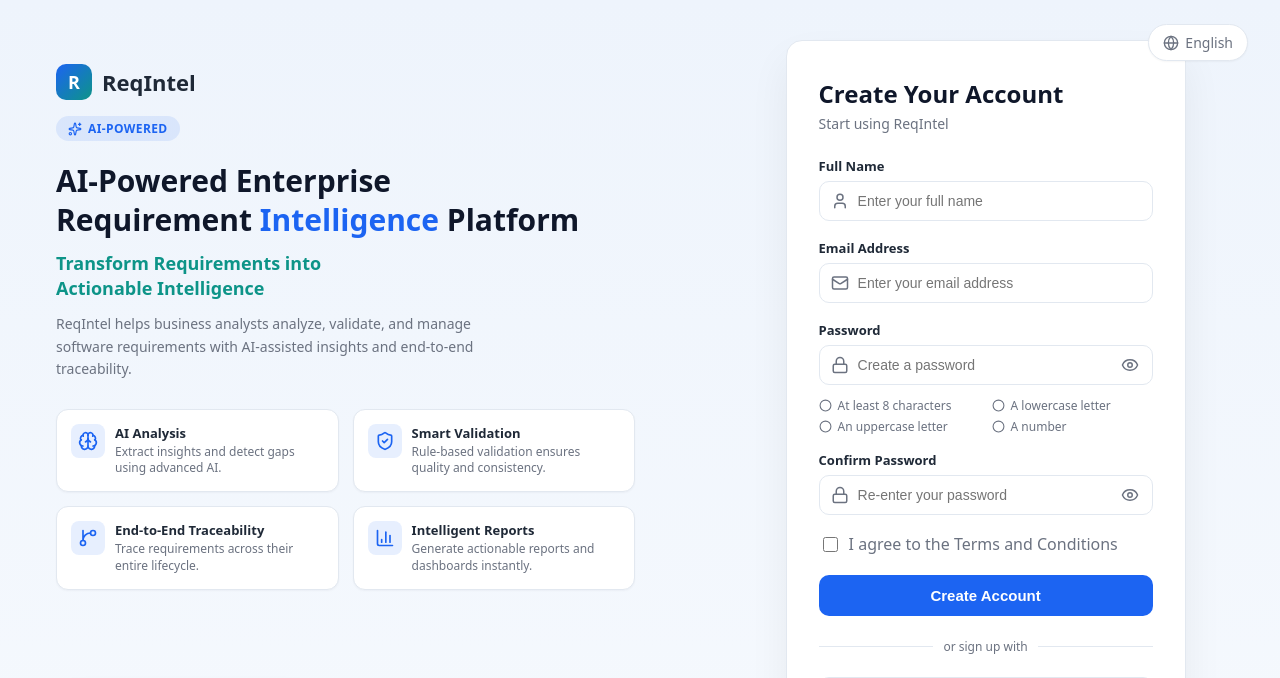
Test case: RegisterPage › blocks mismatched passwords, invalid email and unchecked terms
In the field labelled "Full Name": [986, 201] box [819,181,1153,221], type "Ada Lovelace"
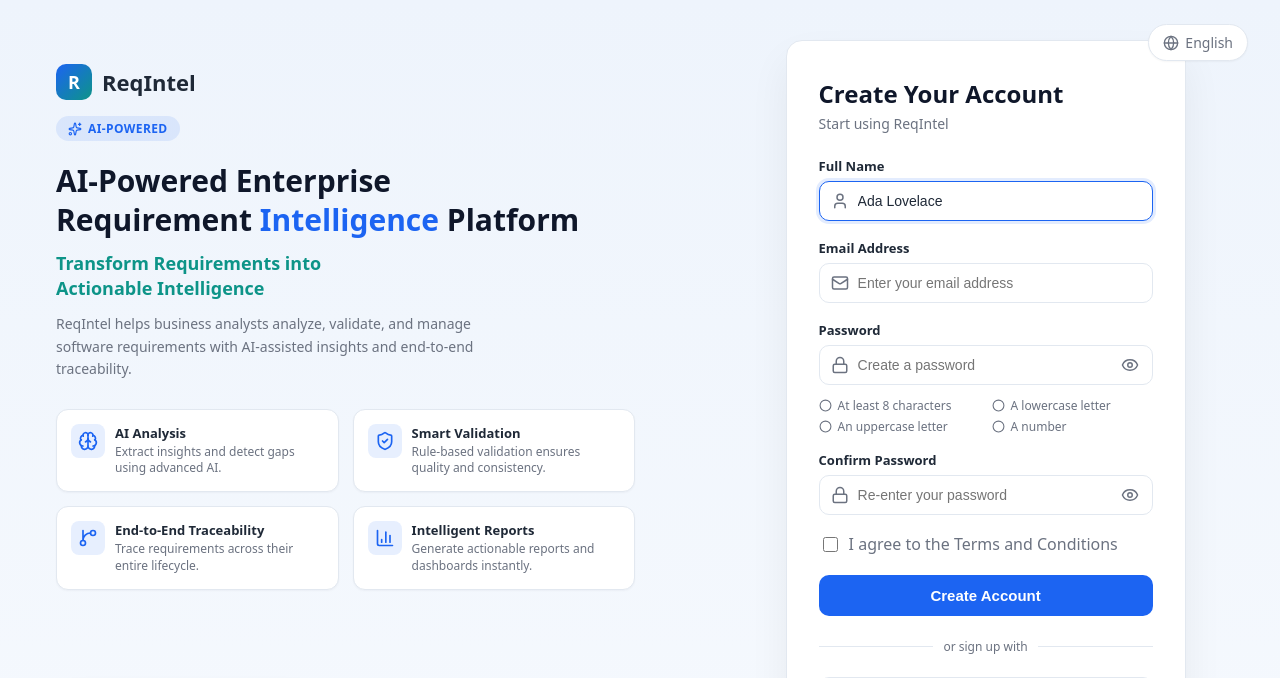
In the field labelled "Email Address": [986, 283] box [819,263,1153,303], type "ada@example.com"
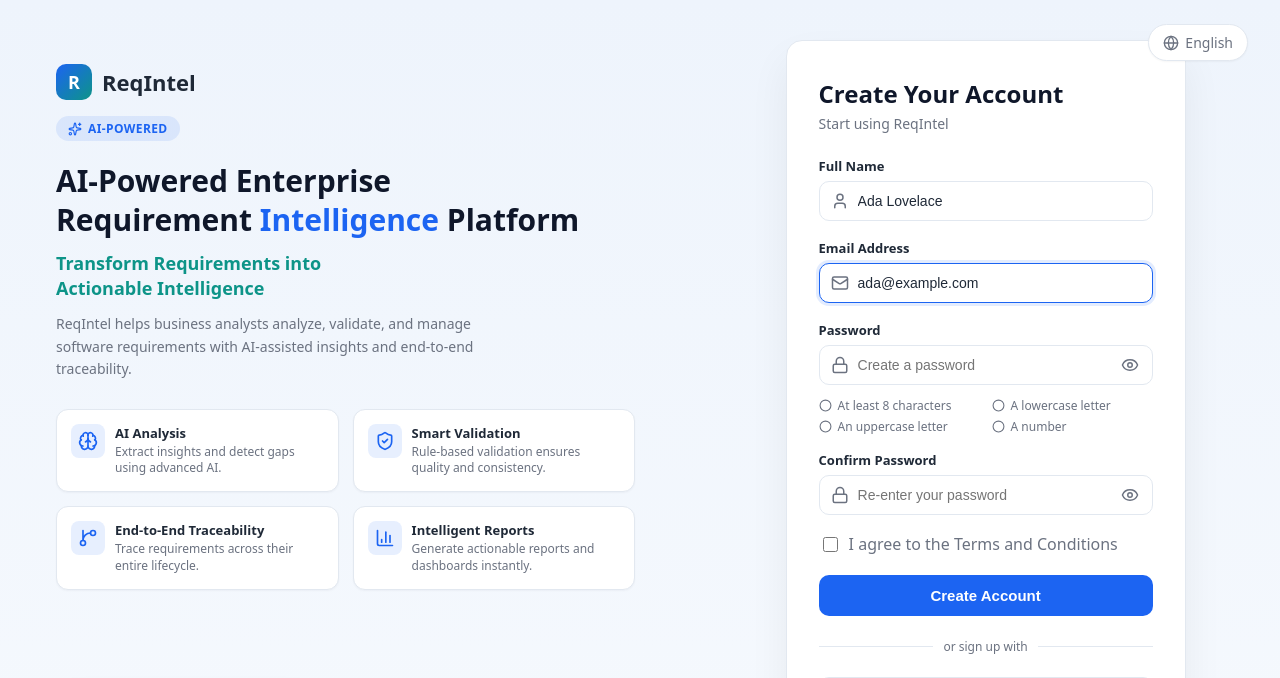
In the password field labelled "Password": [986, 365] box [819,345,1153,385], type "Longenough1"
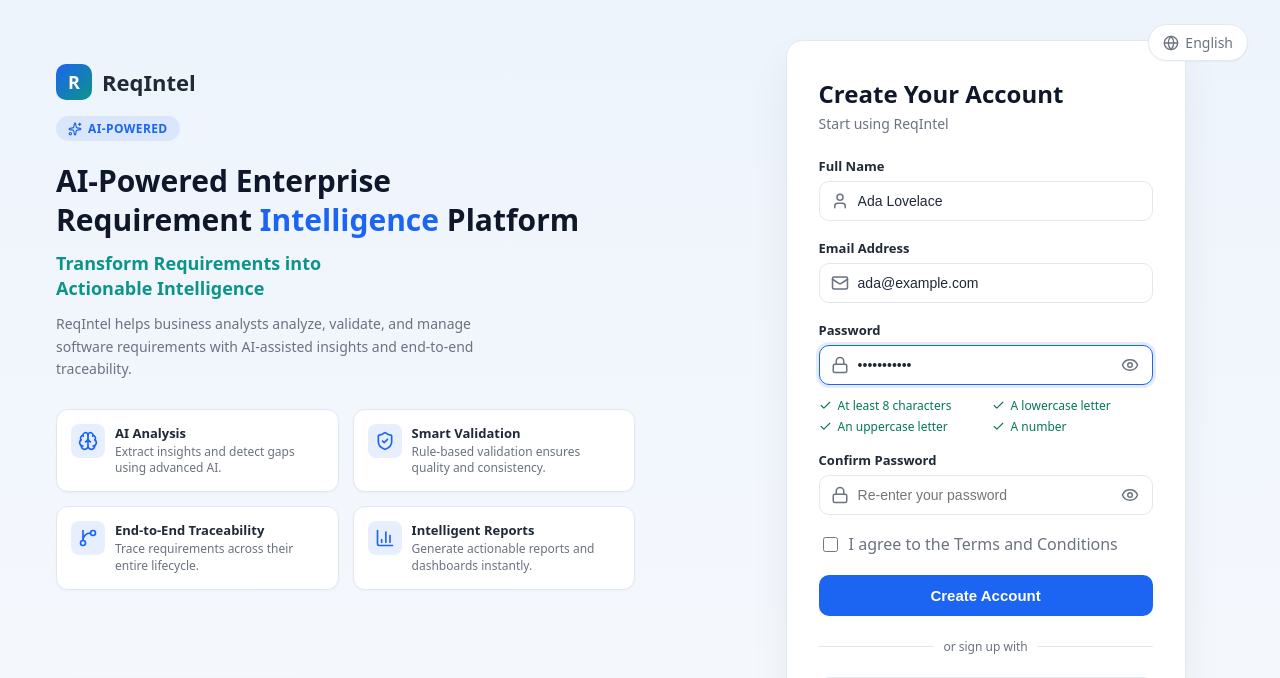
In the password field labelled "Confirm Password": [986, 495] box [819,475,1153,515], type "Different1x"
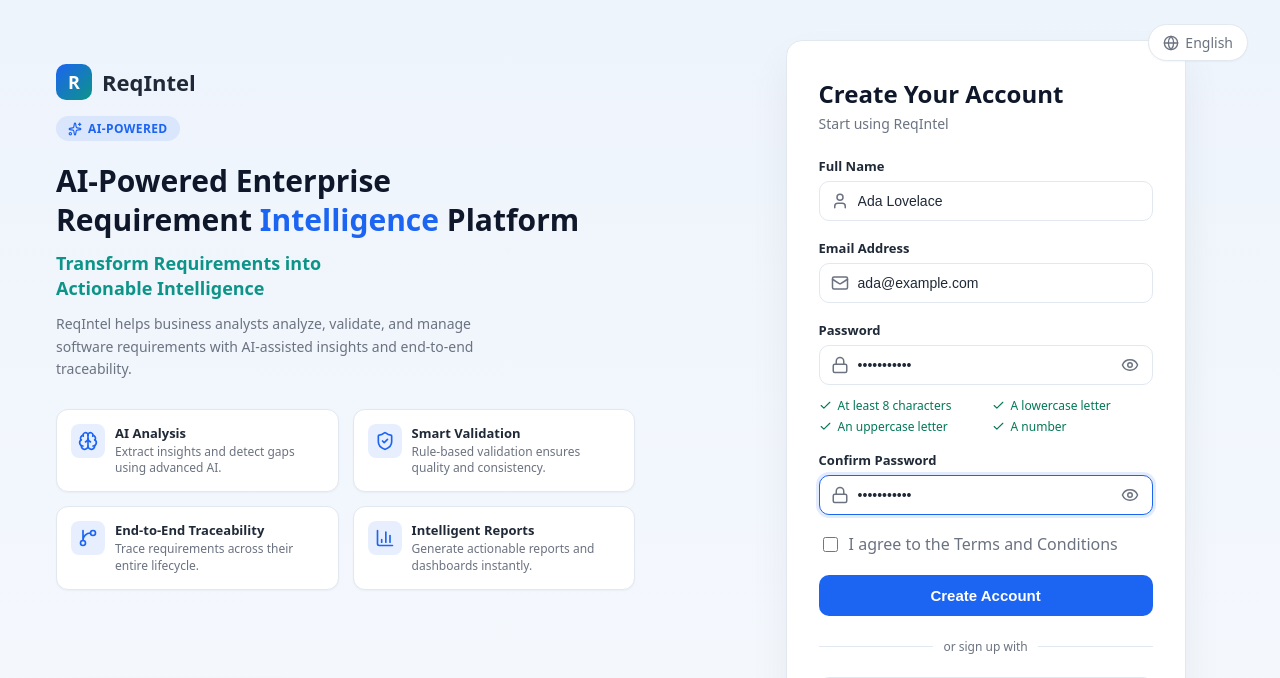
Click the checkbox labelled "I agree to the Terms and Conditions": [830, 544] box [823,536,838,552]
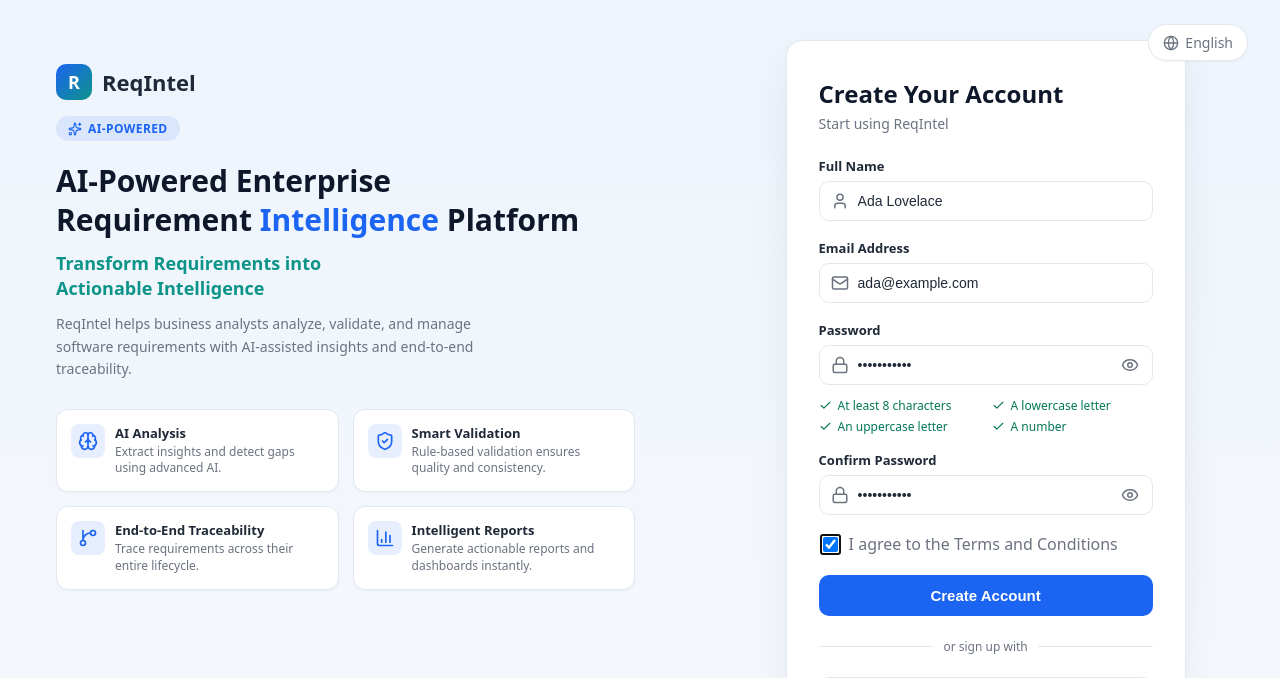
Click the button "Create Account": [986, 596] box [819,575,1153,616]
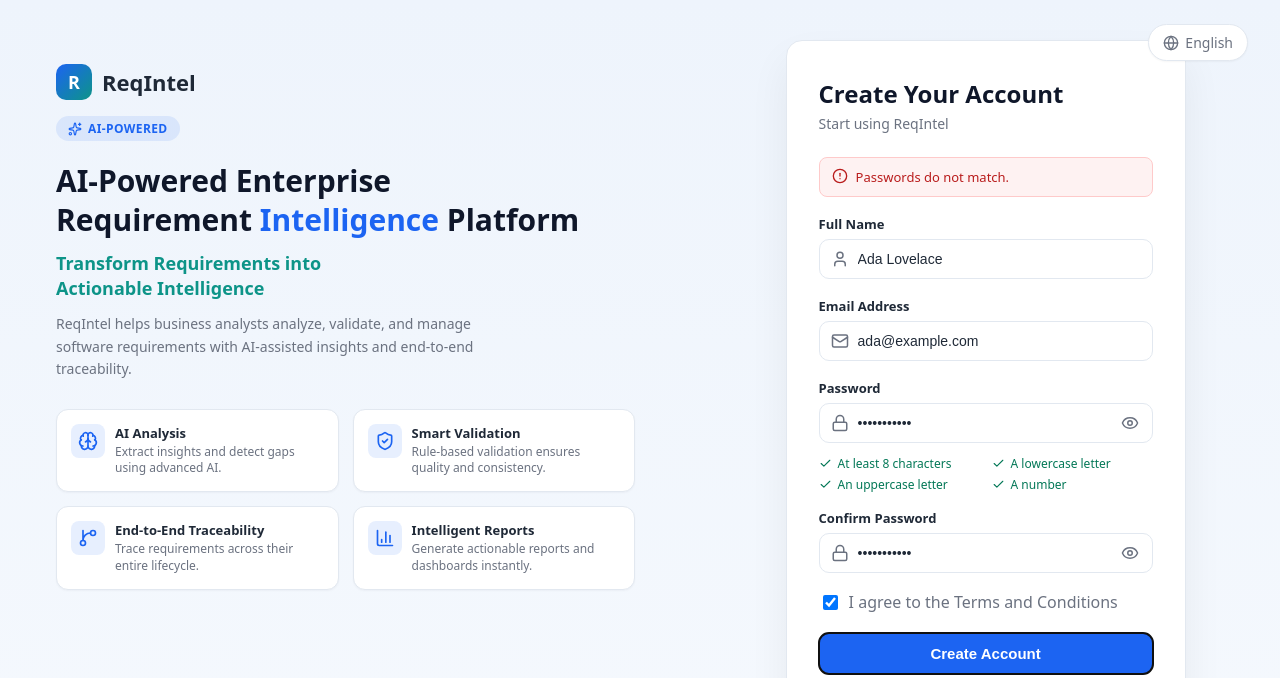
Now the message shows "do not match", box [856,168,1009,186]
